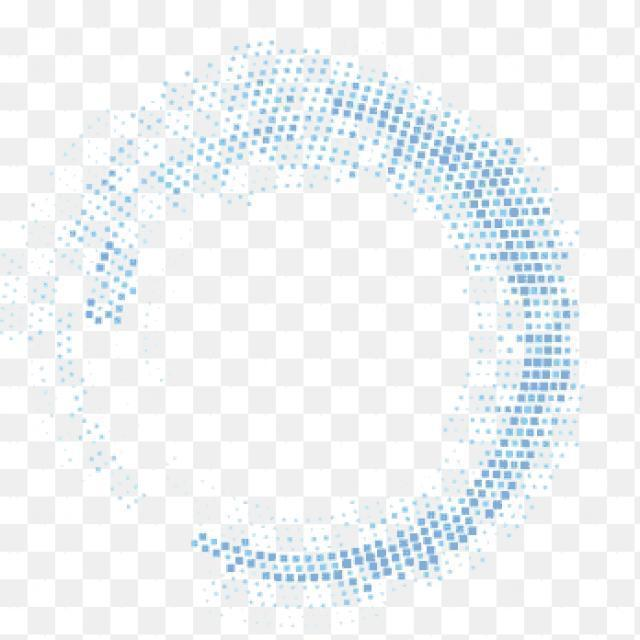Circle: (48, 31, 580, 605)
